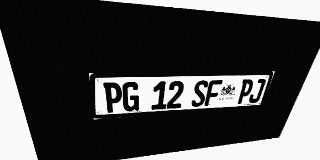1: (151, 81, 169, 110)
2: (167, 81, 185, 109)
F: (204, 80, 223, 106)
G: (122, 82, 140, 112)
J: (247, 79, 267, 103)
P: (103, 82, 122, 113), (236, 79, 255, 104)
S: (191, 80, 209, 107)
